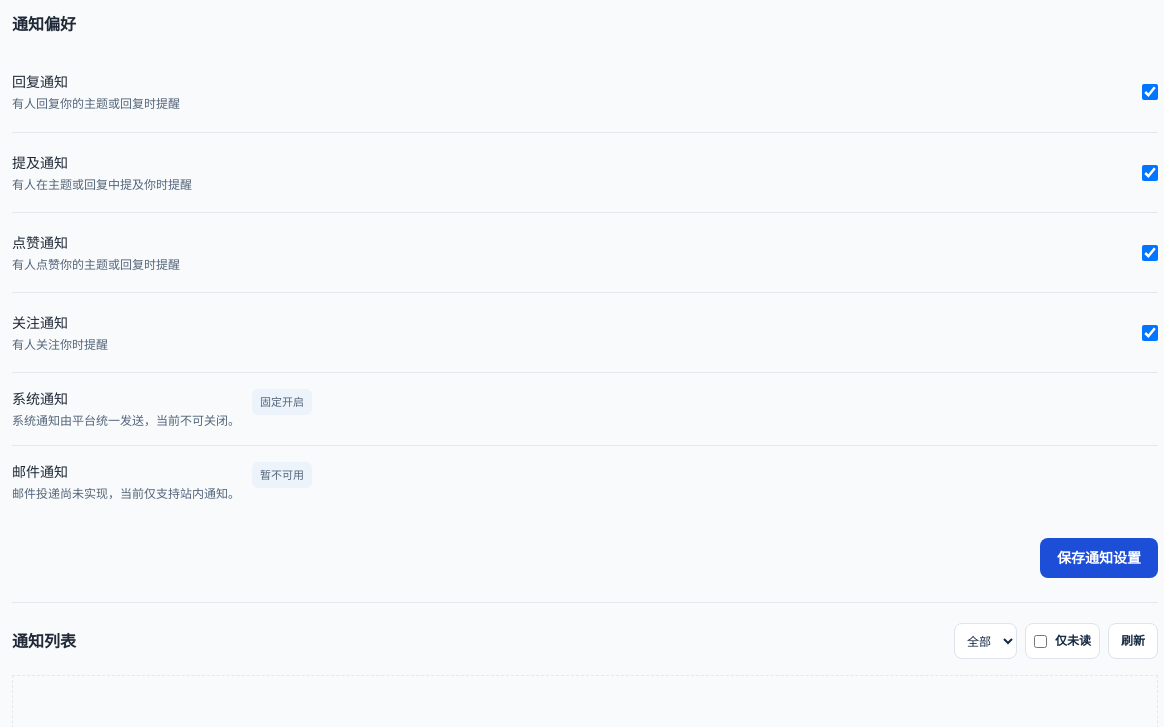
Test: SettingsNotificationsTab › keeps the latest edits after a preference save fails
The image size is (1164, 727).
Click the checkbox with id "notification-preference-reply" at {"x": 1150, "y": 92}, box [1142,84,1158,100]
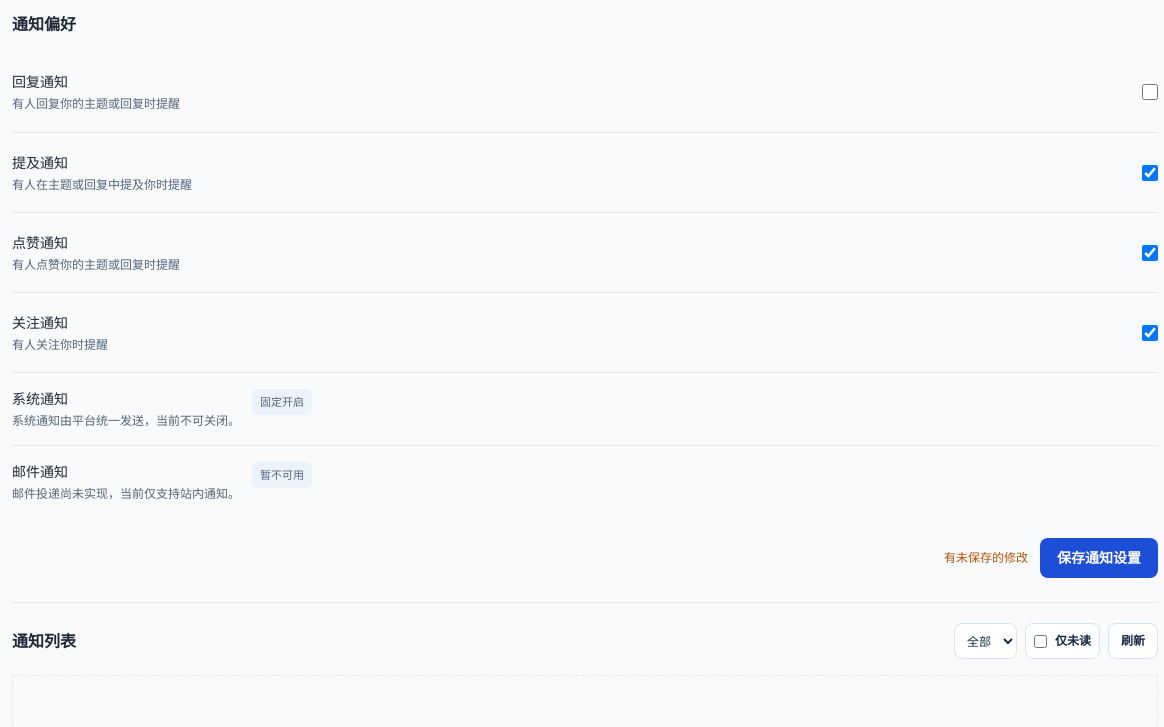
Click the button "保存通知设置" at {"x": 1099, "y": 558}, box [1040,538,1158,578]
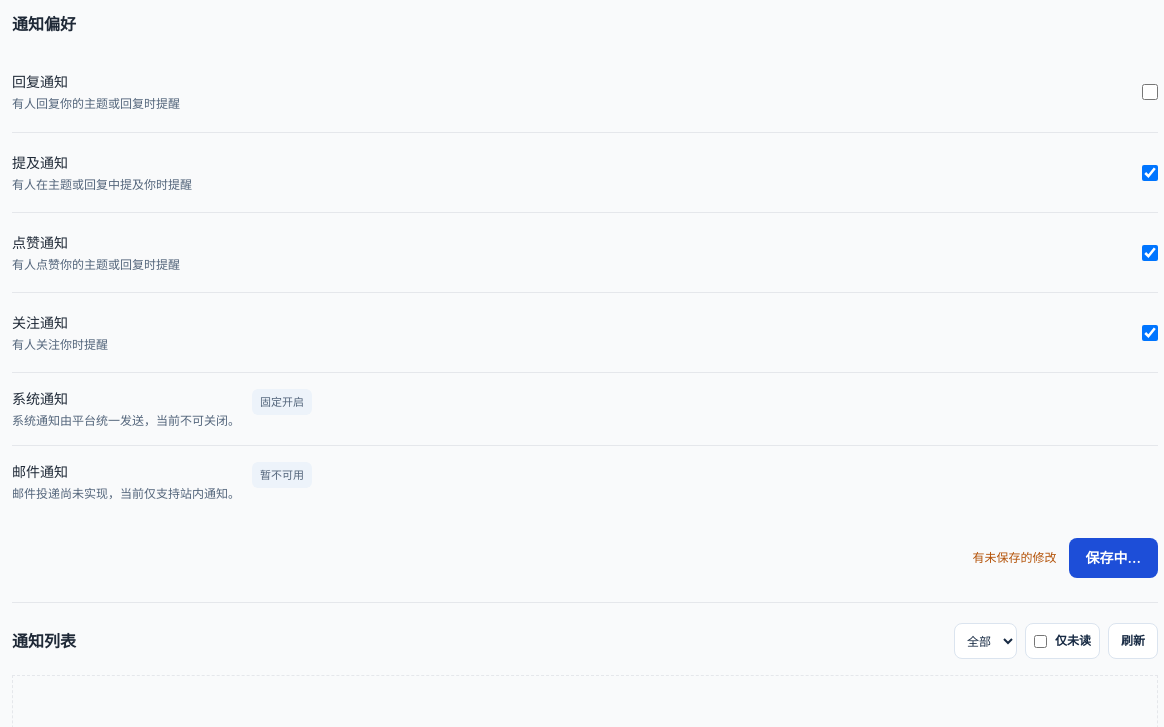
Click the checkbox with id "notification-preference-reply" at {"x": 1150, "y": 92}, box [1142,84,1158,100]
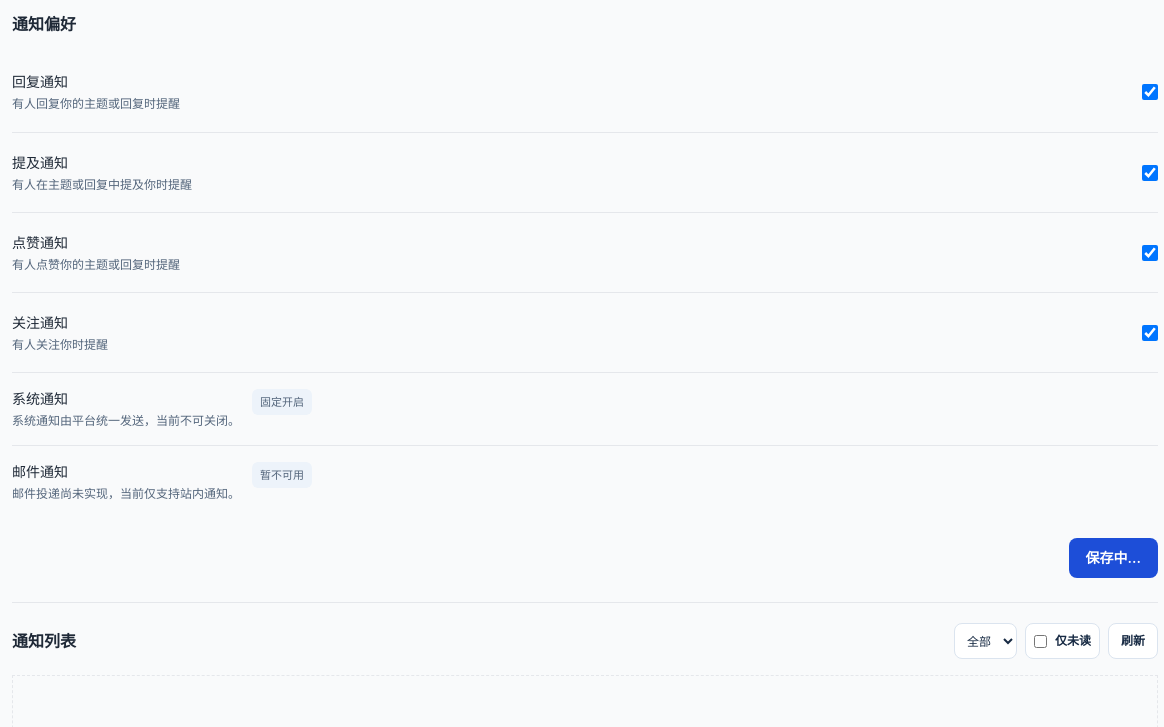
Click the checkbox with id "notification-preference-like" at {"x": 1150, "y": 252}, box [1142,244,1158,260]
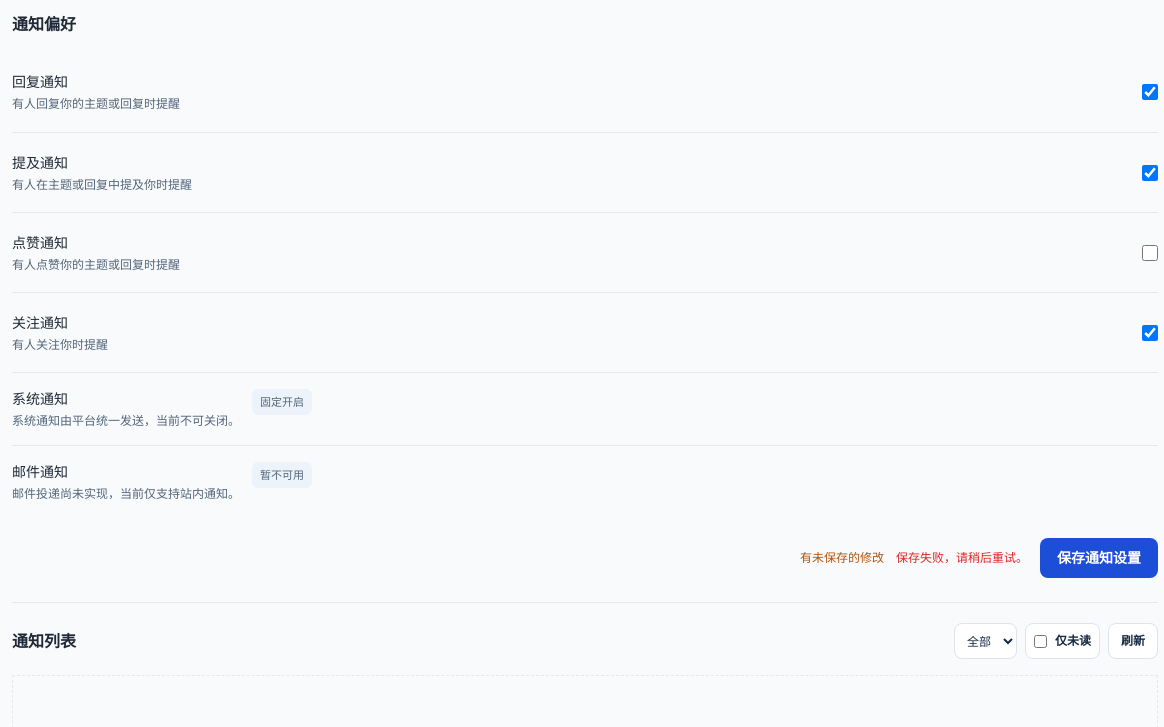
Check: the checkbox with id "notification-preference-reply" is checked, box [1142,84,1158,100]
Check: the checkbox with id "notification-preference-like" is not checked, box [1142,244,1158,260]
Check: the text "保存失败，请稍后重试。" is shown, box [896,550,1028,566]
